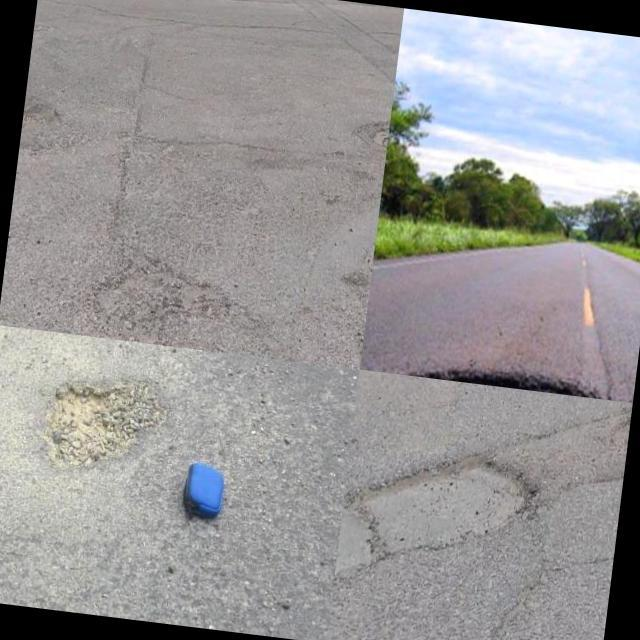Pothole: (351, 454, 536, 560), (48, 382, 163, 465)
